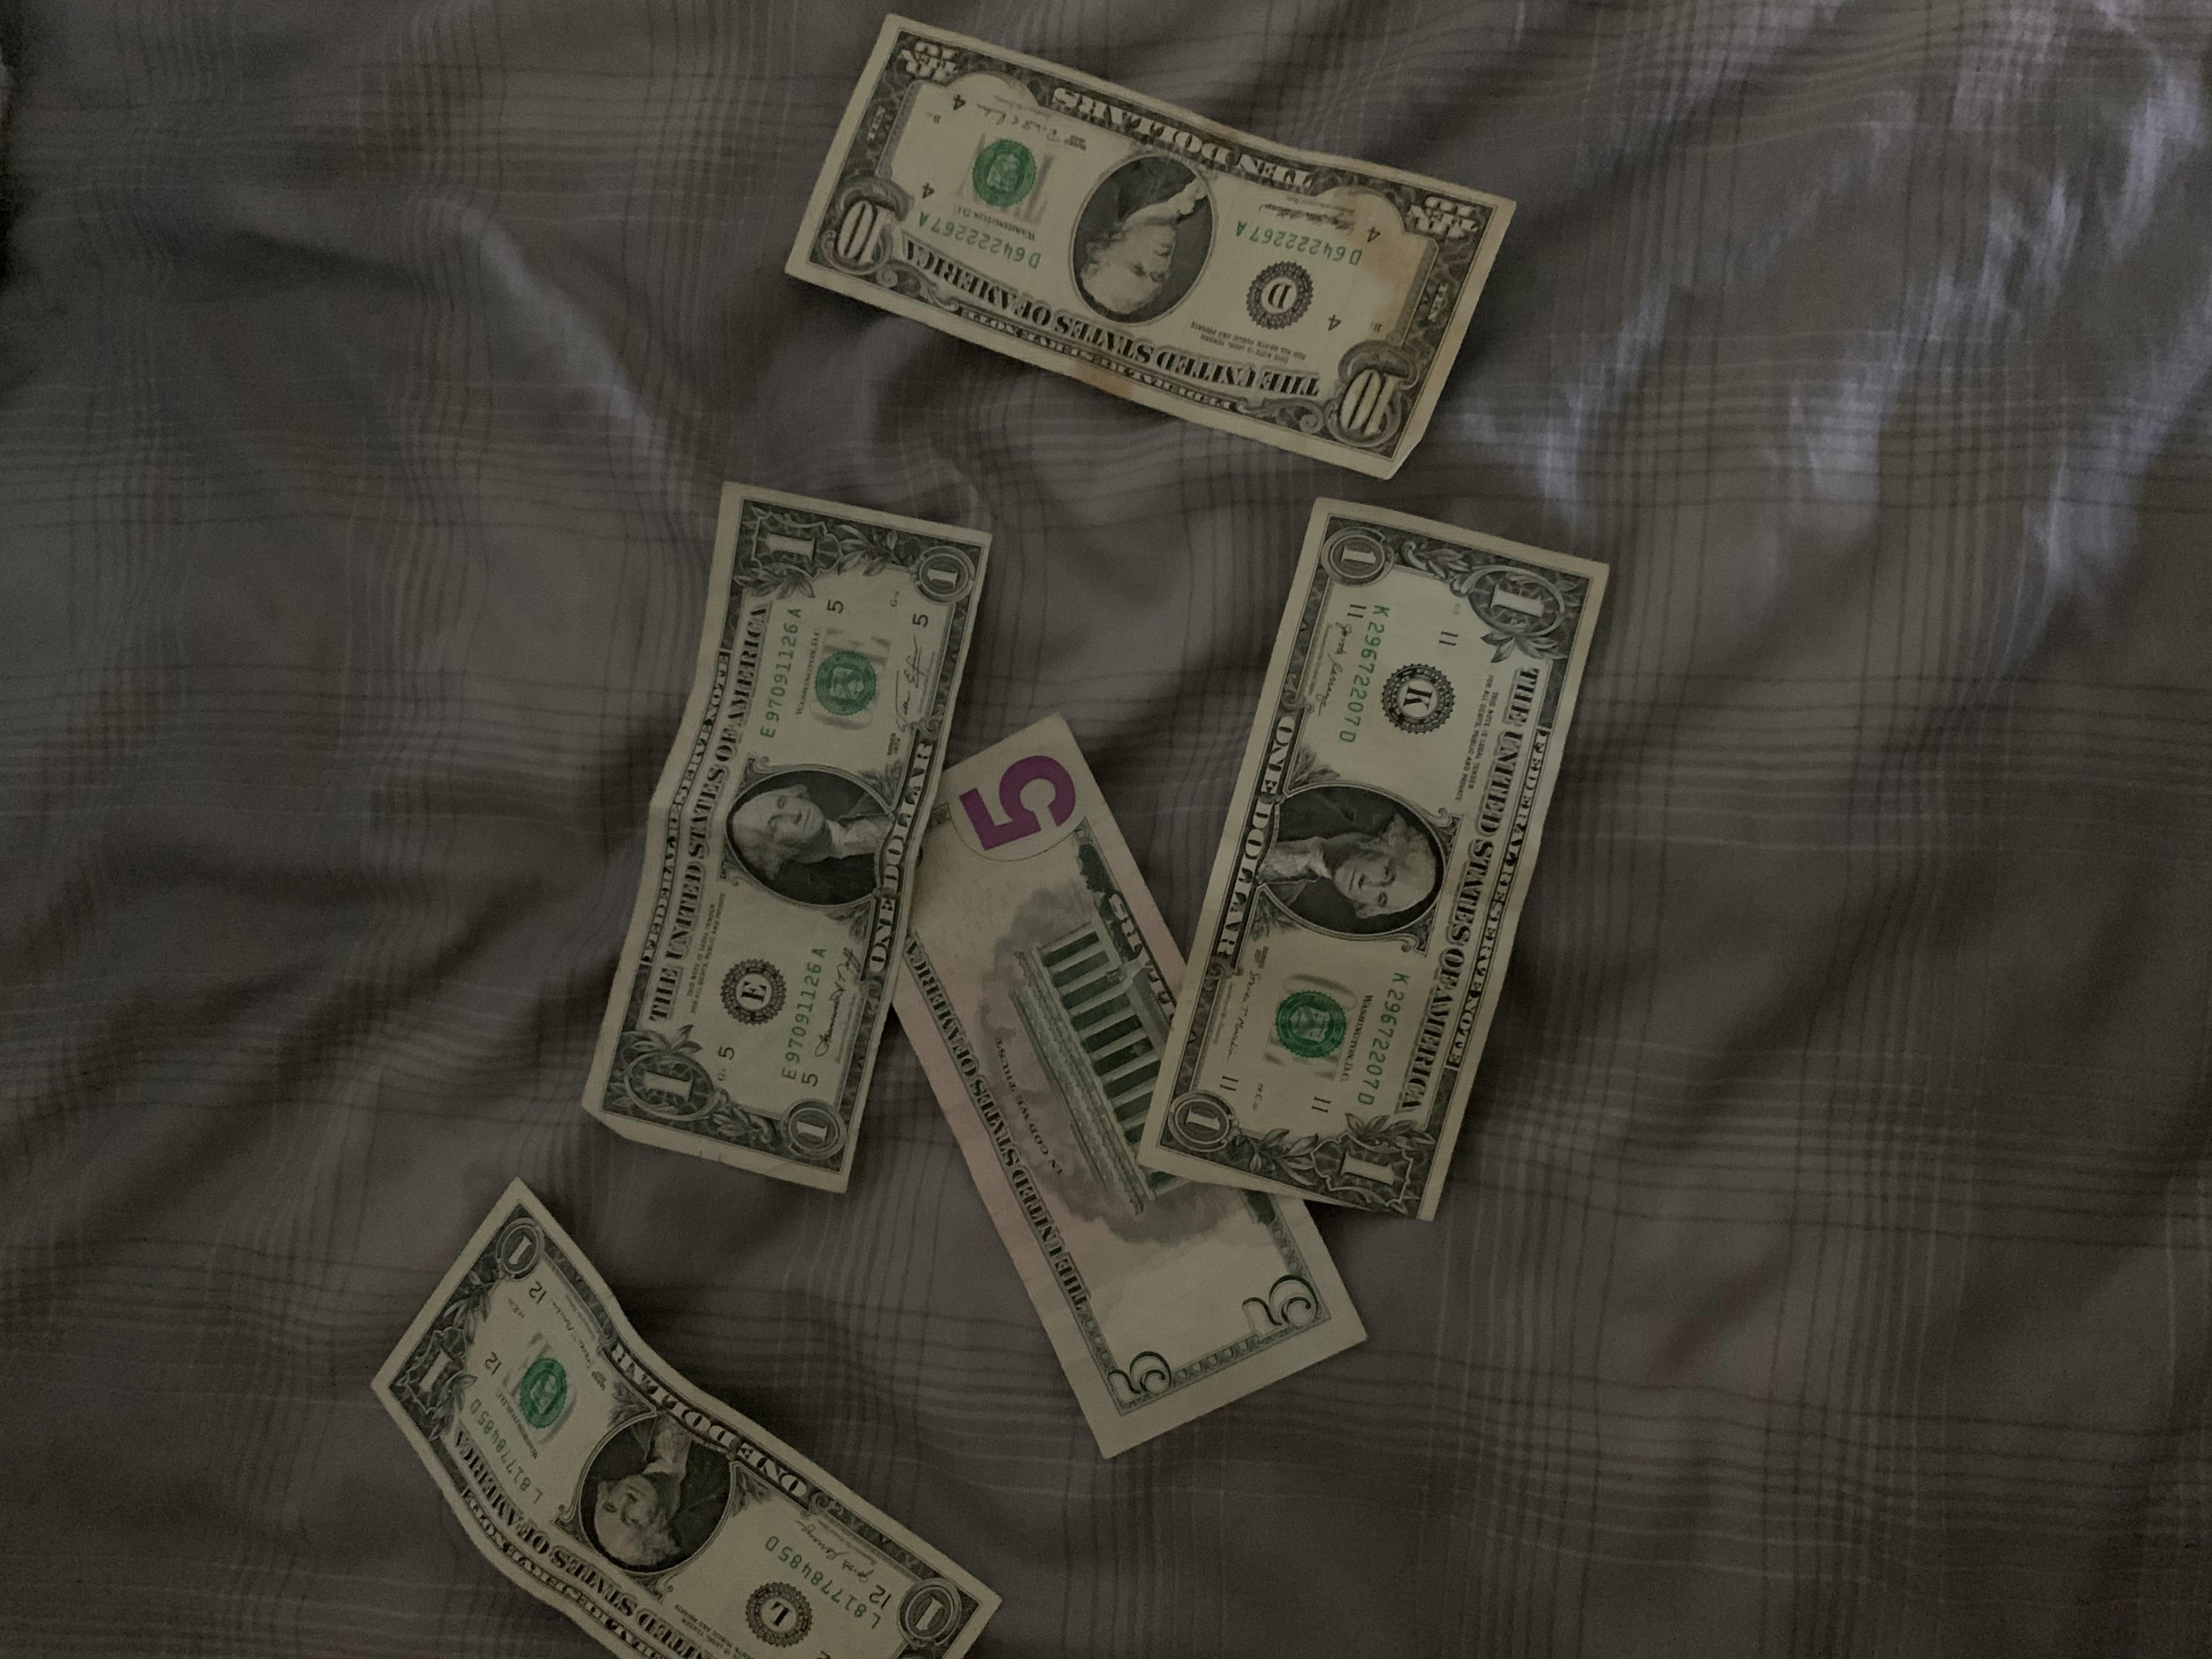FiveBill: (857, 716, 1385, 1473)
OneBill: (1137, 490, 1580, 1206), (578, 460, 991, 1197), (369, 1176, 998, 1657)
TenBill: (786, 14, 1524, 479)
